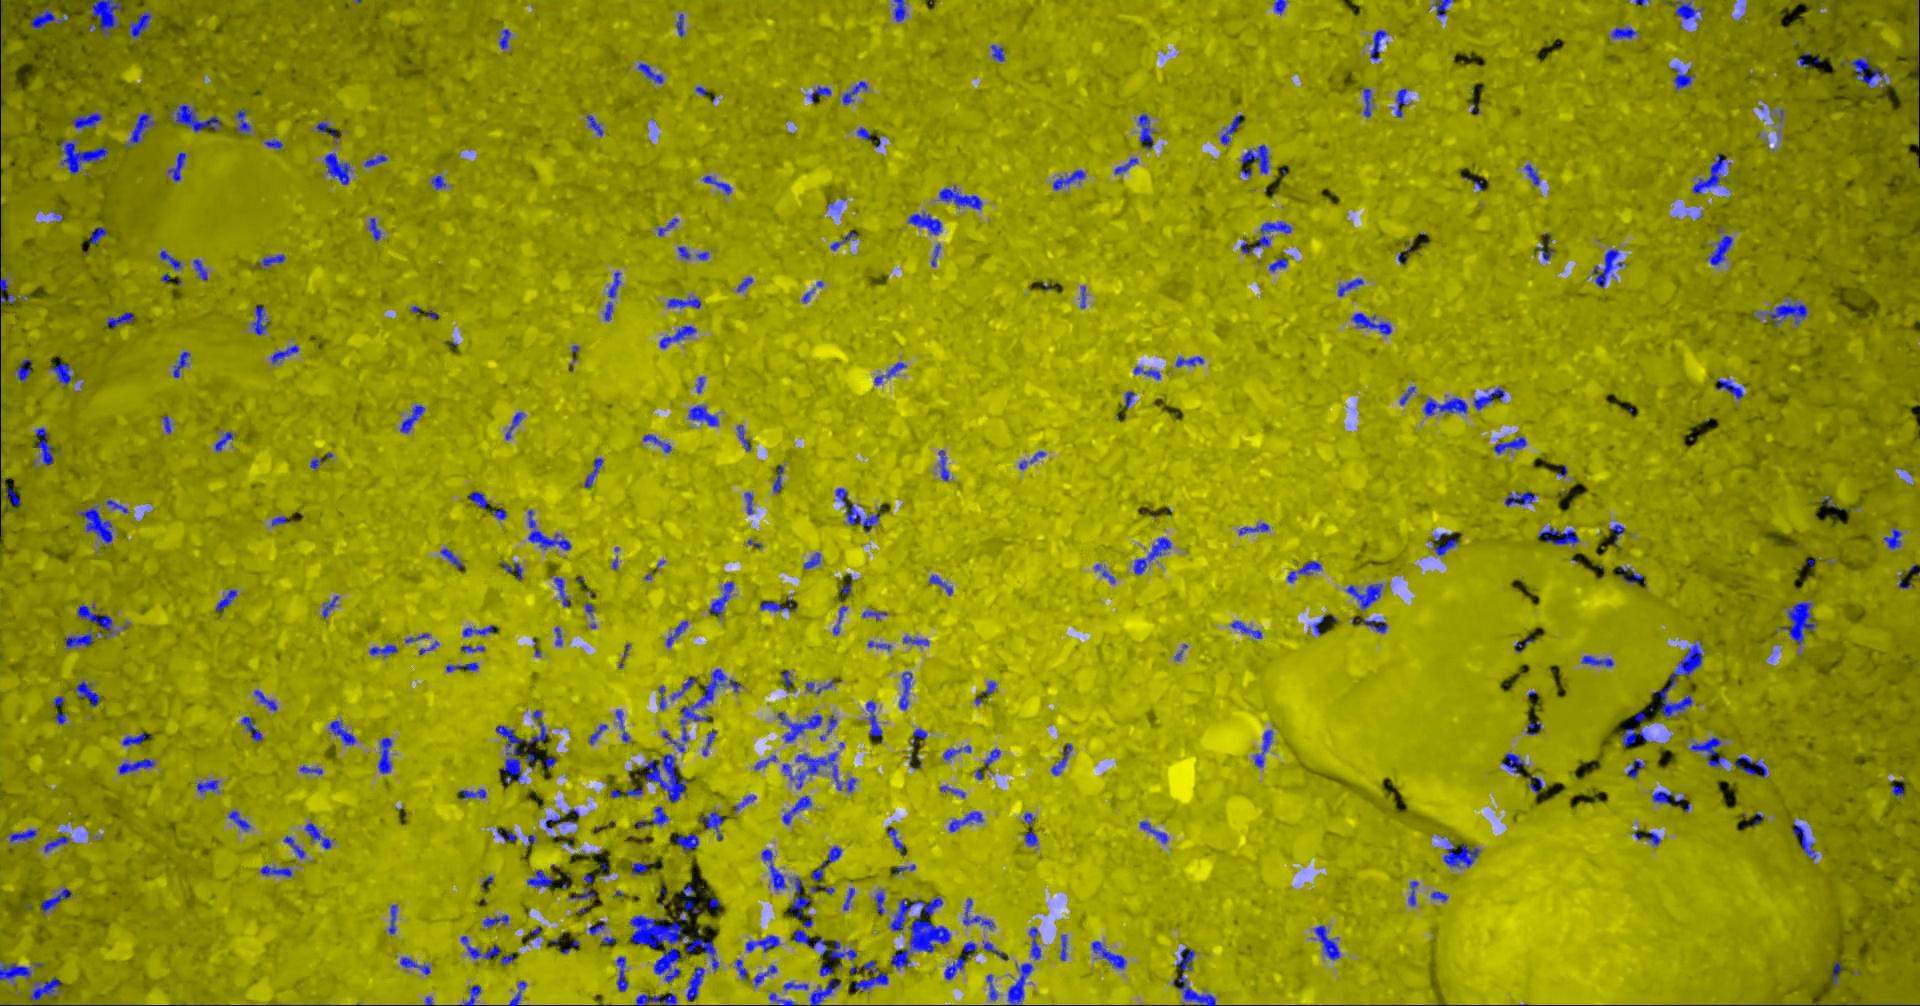ant: (663, 668, 742, 752), (497, 709, 549, 782), (1655, 641, 1704, 716), (1175, 948, 1217, 1005), (783, 751, 843, 790), (640, 753, 688, 801), (837, 486, 884, 531), (61, 138, 110, 174), (1242, 221, 1293, 255), (530, 509, 571, 550), (1694, 152, 1732, 193), (1782, 601, 1816, 644), (1135, 537, 1173, 574), (778, 711, 824, 742), (794, 918, 829, 955), (80, 506, 114, 542), (1592, 248, 1624, 287), (811, 964, 842, 1005), (177, 104, 222, 131), (1760, 301, 1810, 325), (91, 0, 124, 36), (811, 845, 843, 880), (126, 111, 156, 147), (1691, 737, 1728, 767), (938, 185, 984, 210), (856, 959, 890, 991), (1850, 56, 1886, 86), (1010, 962, 1034, 1005), (1444, 840, 1481, 868), (763, 848, 787, 890), (79, 605, 114, 633), (964, 898, 996, 929), (1093, 940, 1128, 968), (462, 935, 502, 959), (1347, 583, 1383, 608), (604, 271, 622, 320), (1352, 312, 1393, 334), (1316, 925, 1341, 959), (1242, 144, 1271, 173), (783, 795, 813, 824), (791, 876, 811, 918), (30, 8, 70, 29), (662, 325, 698, 348), (1794, 821, 1817, 857), (710, 580, 735, 614), (326, 152, 352, 184), (1425, 398, 1469, 415), (909, 211, 943, 234), (1736, 754, 1770, 777), (305, 822, 334, 848), (1539, 526, 1580, 545), (1288, 560, 1323, 582), (1710, 234, 1735, 265), (876, 361, 908, 385), (700, 810, 725, 840), (1255, 729, 1274, 767), (950, 810, 985, 831), (1054, 169, 1087, 191), (401, 404, 425, 433), (43, 888, 72, 912), (1476, 387, 1506, 410), (1051, 743, 1073, 775), (30, 978, 62, 1000), (37, 427, 55, 465), (330, 720, 358, 744), (690, 404, 720, 426), (77, 680, 102, 706), (1432, 532, 1460, 555), (1142, 821, 1170, 843), (1222, 114, 1243, 144), (843, 80, 869, 104), (672, 676, 697, 700), (667, 620, 690, 647), (688, 967, 706, 1001), (1, 962, 33, 981), (1676, 0, 1705, 20), (66, 627, 95, 648), (1139, 113, 1156, 149), (1495, 436, 1528, 453), (683, 883, 701, 916), (130, 11, 152, 37), (747, 935, 781, 951), (1232, 620, 1263, 638), (1, 277, 17, 314), (119, 758, 156, 774), (703, 175, 733, 194), (644, 433, 673, 452), (585, 457, 604, 486), (51, 359, 74, 384), (754, 964, 778, 987), (900, 671, 914, 710), (1653, 790, 1686, 807), (1371, 29, 1389, 60), (867, 700, 883, 735), (401, 956, 432, 974), (1717, 379, 1745, 398), (505, 412, 524, 439), (830, 940, 858, 959), (945, 956, 968, 979), (1672, 66, 1697, 88), (243, 716, 264, 741), (169, 151, 187, 180), (637, 992, 678, 1005), (378, 737, 392, 774), (639, 64, 665, 83), (272, 344, 298, 363), (1623, 727, 1650, 746), (555, 575, 571, 606), (830, 232, 858, 250), (1020, 451, 1048, 469), (888, 827, 905, 855), (528, 869, 556, 887), (1503, 752, 1526, 774), (284, 835, 306, 857), (977, 680, 997, 704), (72, 112, 104, 127), (1338, 278, 1365, 296), (174, 351, 192, 377), (761, 598, 797, 611), (463, 624, 500, 636), (317, 121, 339, 142), (253, 305, 268, 335), (931, 574, 954, 594), (257, 690, 279, 710), (617, 709, 631, 742), (1025, 812, 1039, 845), (834, 605, 850, 634), (123, 730, 152, 746), (822, 714, 838, 741), (230, 810, 251, 831), (441, 547, 463, 567), (502, 561, 524, 580), (323, 594, 340, 619), (676, 833, 700, 851), (510, 981, 528, 1005), (1506, 492, 1537, 506), (1359, 619, 1389, 633), (943, 744, 971, 760), (1622, 567, 1647, 583), (44, 836, 70, 852), (1030, 926, 1043, 959), (161, 250, 182, 271), (217, 589, 237, 610), (1096, 564, 1117, 583), (809, 85, 833, 102), (668, 296, 702, 307), (618, 956, 630, 991), (1397, 88, 1411, 116), (107, 312, 135, 326), (808, 680, 836, 694), (216, 431, 235, 451), (1, 486, 22, 506), (984, 940, 1004, 959), (463, 984, 483, 1005), (659, 217, 681, 235), (470, 492, 491, 509), (1116, 158, 1139, 174), (262, 865, 295, 876), (738, 424, 752, 451), (1636, 831, 1662, 845), (55, 695, 67, 724), (18, 359, 33, 384), (938, 448, 950, 480), (1884, 528, 1903, 547), (590, 724, 610, 743), (262, 254, 287, 268), (703, 729, 717, 754), (11, 828, 39, 841), (1239, 522, 1270, 533), (90, 226, 109, 244), (1135, 366, 1162, 379), (1627, 760, 1646, 777), (651, 807, 670, 824), (570, 887, 597, 899), (484, 915, 510, 927), (770, 992, 796, 1005), (987, 974, 1001, 998), (588, 116, 604, 136), (370, 644, 399, 655), (1526, 164, 1542, 185), (1583, 655, 1615, 666), (1611, 27, 1639, 38), (237, 109, 251, 132), (756, 754, 778, 768), (1436, 0, 1455, 17), (985, 748, 1002, 767), (737, 795, 757, 810), (196, 258, 210, 279), (198, 779, 220, 793), (1401, 386, 1417, 404), (447, 662, 480, 671), (366, 154, 389, 166), (370, 217, 382, 240), (941, 785, 966, 796), (1177, 356, 1205, 366), (775, 464, 785, 492), (895, 0, 908, 22), (108, 499, 130, 512), (1540, 243, 1556, 260), (461, 788, 488, 798), (1270, 257, 1289, 271), (498, 828, 517, 842), (844, 887, 856, 909), (904, 635, 930, 645), (876, 889, 886, 915), (805, 553, 822, 568), (912, 728, 928, 743), (1611, 525, 1625, 542), (894, 864, 916, 875), (1410, 880, 1420, 904), (1832, 960, 1843, 984), (745, 492, 756, 514), (869, 640, 891, 650), (301, 763, 324, 774), (590, 920, 606, 935), (992, 44, 1006, 61), (738, 277, 754, 291), (1364, 88, 1371, 117), (390, 904, 397, 934), (500, 29, 512, 48), (737, 959, 748, 978), (863, 610, 888, 619), (1528, 720, 1543, 734), (964, 941, 978, 956), (1531, 776, 1544, 793), (632, 862, 650, 874), (858, 127, 872, 141), (433, 175, 447, 189), (1275, 0, 1288, 15), (265, 138, 284, 149), (785, 982, 810, 989), (1126, 390, 1137, 408), (273, 516, 293, 525), (1432, 890, 1450, 901), (678, 13, 686, 36), (1062, 934, 1068, 960), (494, 508, 508, 520), (462, 645, 486, 652), (660, 685, 667, 709), (783, 671, 792, 687), (1893, 784, 1905, 796), (164, 415, 171, 433), (679, 246, 691, 258), (627, 788, 644, 795)
